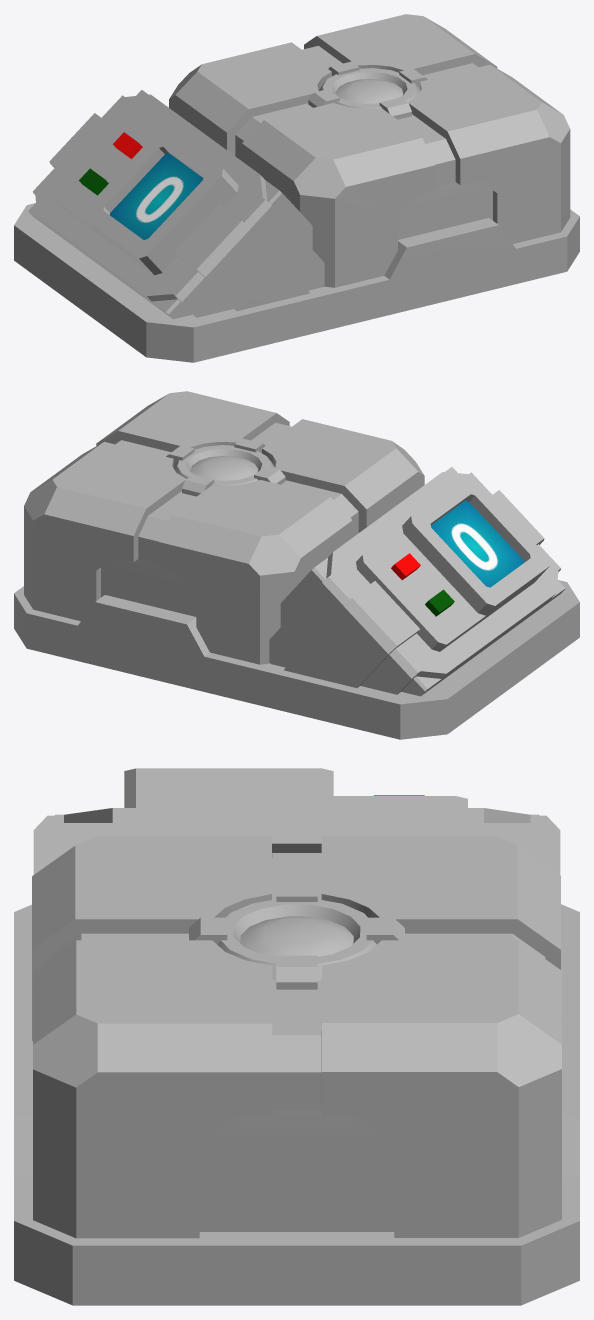
The model's file is nick_PartSpawner_red.dae.
3 views of the same model, one above another, from view 1: azimuth 30°, elevation 25°; view 2: azimuth 150°, elevation 25°; view 3: azimuth 270°, elevation 25° (orthographic). The views are drawn at different scales.
Visible parts, largest first — view 1: spawner.003, button_panel.003, screen.003, light_green.003; view 2: spawner.003, button_panel.003, screen.003, light_green.003; view 3: spawner.003, button_panel.003.
Boxes of the visible parts, x1,y1,x2,y2 form: spawner.003: [14, 14, 579, 362]; button_panel.003: [28, 90, 324, 319]; screen.003: [110, 153, 203, 239]; light_green.003: [79, 132, 142, 195]; spawner.003: [14, 391, 579, 739]; button_panel.003: [269, 467, 565, 696]; screen.003: [431, 500, 524, 587]; light_green.003: [391, 553, 454, 616]; spawner.003: [14, 836, 579, 1305]; button_panel.003: [33, 768, 560, 874].
Size of the model in its own units: 3 by 2 by 1.01.
